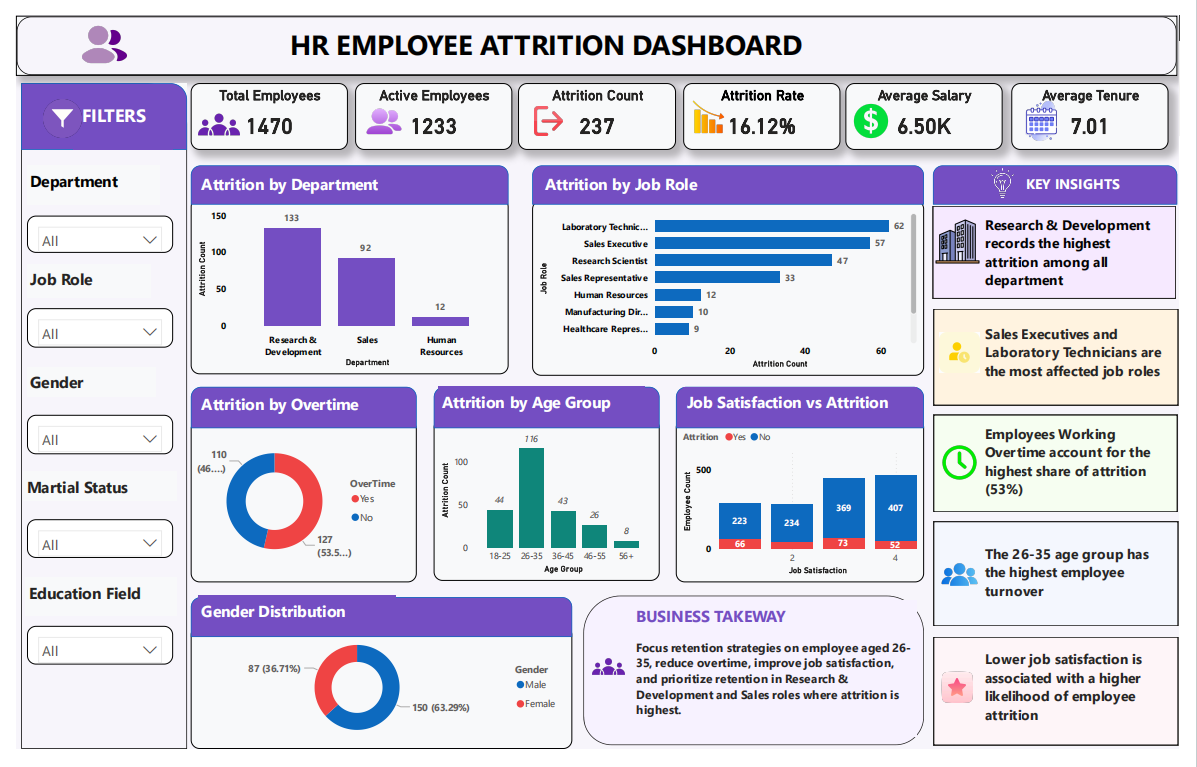

The dashboard page shown, as its layout file describes it:
{"tool":"powerbi","page":{"name":"HR Attrition Dashboard","canvas":[1570,990],"ordinal":0},"visuals":[{"type":"shape","box":[0,0,1567.6,81.3],"z":0},{"type":"textbox","box":[235.9,8,959.8,61.7],"z":1000},{"type":"shape","box":[6.6,91.2,223.9,899.1],"z":2000},{"type":"card","title":"Total Employees","fields":{"Values":["HR Employee Attrition 1.Total Employees"]},"box":[235.6,91.2,212.3,89.6],"z":3000},{"type":"clusteredColumnChart","title":"Attrition by Department","fields":{"Category":["HR Employee Attrition 1.Department"],"Y":["HR Employee Attrition 1.Attrition Count"]},"box":[235.6,245.5,429.6,238.9],"z":4000},{"type":"clusteredBarChart","fields":{"Category":["HR Employee Attrition 1.JobRole"],"Y":["HR Employee Attrition 1.Attrition Count"]},"box":[696.7,248.8,529.2,237.2],"z":5000},{"type":"donutChart","fields":{"Category":["HR Employee Attrition 1.OverTime"],"Y":["HR Employee Attrition 1.Attrition Count"]},"box":[235.6,545.8,305.2,219],"z":6000},{"type":"columnChart","fields":{"Category":["HR Employee Attrition 1.Age Group"],"Y":["HR Employee Attrition 1.Attrition Count"]},"box":[564,544.1,305.2,219],"z":7000},{"type":"donutChart","fields":{"Category":["HR Employee Attrition 1.Gender"],"Y":["HR Employee Attrition 1.Attrition Count"]},"box":[235.6,824.5,515.9,165.9],"z":8000},{"type":"columnChart","fields":{"Category":["HR Employee Attrition 1.JobSatisfaction"],"Y":["CountNonNull(HR Employee Attrition 1.EmployeeNumber)"],"Series":["HR Employee Attrition 1.Attrition"]},"box":[890.8,544.1,335.1,220.6],"z":9000},{"type":"shape","box":[235.6,202.4,429.6,53.1],"z":10000},{"type":"textbox","box":[245.5,205.7,283.7,46.4],"z":11000},{"type":"shape","box":[696.7,202.4,529.2,53.1],"z":12000},{"type":"textbox","box":[710,205.7,267.1,46.4],"z":13000},{"type":"shape","box":[235.6,501,305.2,56.4],"z":14000},{"type":"textbox","box":[245.5,504.3,257.1,49.8],"z":15000},{"type":"shape","box":[564,501,305.2,56.4],"z":16000},{"type":"textbox","box":[570.6,501,278.7,49.8],"z":17000},{"type":"shape","box":[890.8,501,335.1,56.4],"z":18000},{"type":"textbox","box":[900.8,501,315.2,48.1],"z":19000},{"type":"shape","box":[235.6,784.6,515.9,54.7],"z":20000},{"type":"textbox","box":[245.5,783,267.1,49.8],"z":21000},{"type":"shape","box":[6.6,91.2,223.9,89.6],"z":22000},{"type":"textbox","box":[78,112.8,134.4,68],"z":23000},{"type":"slicer","fields":{"Values":["HR Employee Attrition 1.Department"]},"box":[14.9,270.4,197.4,49.8],"z":24000},{"type":"textbox","box":[14.9,202.4,179.2,53.1],"z":25000},{"type":"textbox","box":[14.9,335.1,167.5,44.8],"z":26000},{"type":"slicer","fields":{"Values":["HR Employee Attrition 1.JobRole"]},"box":[14.9,394.8,197.4,53.1],"z":27000},{"type":"textbox","box":[14.9,474.4,174.2,39.8],"z":28000},{"type":"slicer","fields":{"Values":["HR Employee Attrition 1.Gender"]},"box":[14.9,539.1,197.4,53.1],"z":29000},{"type":"textbox","box":[10,615.4,207.4,39.8],"z":30000},{"type":"slicer","fields":{"Values":["HR Employee Attrition 1.MaritalStatus"]},"box":[14.9,680.1,197.4,51.4],"z":31000},{"type":"textbox","box":[13.3,758.1,204,51.4],"z":32000},{"type":"slicer","fields":{"Values":["HR Employee Attrition 1.EducationField"]},"box":[14.9,824.5,197.4,51.4],"z":33000},{"type":"image","box":[1239.2,419.7,68,74.6],"z":34000},{"type":"card","title":"Active Employees","fields":{"Values":["HR Employee Attrition 1.Active Employees"]},"box":[457.8,91.2,212.3,89.6],"z":35000},{"type":"card","title":"Attrition Count","fields":{"Values":["HR Employee Attrition 1.Attrition Count"]},"box":[678.5,91.2,212.3,89.6],"z":36000},{"type":"card","title":"Attrition Rate","fields":{"Values":["HR Employee Attrition 1.Attrition Rate"]},"box":[900.8,91.2,212.3,89.6],"z":37000},{"type":"card","title":"Average Salary","fields":{"Values":["HR Employee Attrition 1.Average Income"]},"box":[1119.7,91.2,212.3,89.6],"z":38000},{"type":"card","title":"Average Tenure","fields":{"Values":["HR Employee Attrition 1.Average Years"]},"box":[1343.7,91.2,212.3,89.6],"z":39000},{"type":"image","box":[696.7,122.8,43.1,38.2],"z":40000},{"type":"image","box":[457.8,114.5,76.3,54.7],"z":41000},{"type":"image","box":[245.5,112.8,56.4,68],"z":42000},{"type":"image","box":[1113.1,119.4,82.9,46.4],"z":43000},{"type":"image","box":[1343.7,116.1,79.6,53.1],"z":44000},{"type":"image","box":[910.7,111.1,48.1,49.8],"z":45000},{"type":"image","box":[910.7,854.3,106.2,131],"z":46000},{"type":"image","box":[66.4,8.3,106.2,61.4],"z":47000},{"type":"image","box":[21.6,112.8,81.3,51.4],"z":48000},{"type":"shape","box":[1237.5,257.1,328.5,124.4],"z":49000},{"type":"shape","box":[1237.5,202.4,330.1,53.1],"z":50000},{"type":"textbox","box":[1358.6,209,184.1,36.5],"z":51000},{"type":"image","box":[1292.2,205.7,79.6,39.8],"z":52000},{"type":"shape","box":[1239.2,839.4,330.1,146],"z":53000},{"type":"shape","box":[1239.2,396.5,330.1,129.4],"z":54000},{"type":"shape","box":[1239.2,539.1,328.5,131],"z":55000},{"type":"shape","box":[1239.2,683.4,330.1,141],"z":56000},{"type":"textbox","box":[1303.9,263.8,252.1,116.1],"z":57000},{"type":"textbox","box":[1303.9,411.4,252.1,99.5],"z":58000},{"type":"textbox","box":[1303.9,545.8,252.1,109.5],"z":59000},{"type":"textbox","box":[1303.9,708.3,252.1,91.2],"z":60000},{"type":"textbox","box":[1303.9,851,252.1,109.5],"z":61000},{"type":"image","box":[1247.5,411.4,53.1,87.9],"z":62000},{"type":"image","box":[1240.8,270.4,59.7,69.7],"z":63000},{"type":"image","box":[1247.5,565.7,53.1,74.6],"z":64000},{"type":"image","box":[1247.5,719.9,53.1,69.7],"z":65000},{"type":"image","box":[1249.1,870.9,43.1,69.7],"z":66000},{"type":"shape","box":[766.4,783,459.5,202.4],"z":67000},{"type":"textbox","box":[832.7,789.6,383.2,184.1],"z":68000},{"type":"image","box":[778,844.4,43.1,68],"z":69000}]}

Visuals, with their boxes in screenshot pixels (x1, y1, x2, y2), scaled from the page's 1570x990 canvas onto the 1197x767 screenshot:
shape: detection(0, 0, 1195, 63)
textbox: detection(180, 6, 912, 54)
shape: detection(5, 71, 176, 766)
"Total Employees" card: detection(180, 71, 341, 140)
"Attrition by Department" clusteredColumnChart: detection(180, 190, 507, 375)
clusteredBarChart - HR Employee Attrition 1.JobRole x HR Employee Attrition 1.Attrition Count: detection(531, 193, 935, 377)
donutChart - HR Employee Attrition 1.OverTime x HR Employee Attrition 1.Attrition Count: detection(180, 423, 412, 593)
columnChart - HR Employee Attrition 1.Age Group x HR Employee Attrition 1.Attrition Count: detection(430, 422, 663, 591)
donutChart - HR Employee Attrition 1.Gender x HR Employee Attrition 1.Attrition Count: detection(180, 639, 573, 766)
columnChart - HR Employee Attrition 1.JobSatisfaction x CountNonNull(HR Employee Attrition 1.EmployeeNumber): detection(679, 422, 935, 592)
shape: detection(180, 157, 507, 198)
textbox: detection(187, 159, 403, 195)
shape: detection(531, 157, 935, 198)
textbox: detection(541, 159, 745, 195)
shape: detection(180, 388, 412, 432)
textbox: detection(187, 391, 383, 429)
shape: detection(430, 388, 663, 432)
textbox: detection(435, 388, 648, 427)
shape: detection(679, 388, 935, 432)
textbox: detection(687, 388, 927, 425)
shape: detection(180, 608, 573, 650)
textbox: detection(187, 607, 391, 645)
shape: detection(5, 71, 176, 140)
textbox: detection(59, 87, 162, 140)
slicer - HR Employee Attrition 1.Department: detection(11, 209, 162, 248)
textbox: detection(11, 157, 148, 198)
textbox: detection(11, 260, 139, 294)
slicer - HR Employee Attrition 1.JobRole: detection(11, 306, 162, 347)
textbox: detection(11, 368, 144, 398)
slicer - HR Employee Attrition 1.Gender: detection(11, 418, 162, 459)
textbox: detection(8, 477, 166, 508)
slicer - HR Employee Attrition 1.MaritalStatus: detection(11, 527, 162, 567)
textbox: detection(10, 587, 166, 627)
slicer - HR Employee Attrition 1.EducationField: detection(11, 639, 162, 679)
image: detection(945, 325, 997, 383)
"Active Employees" card: detection(349, 71, 511, 140)
"Attrition Count" card: detection(517, 71, 679, 140)
"Attrition Rate" card: detection(687, 71, 849, 140)
"Average Salary" card: detection(854, 71, 1016, 140)
"Average Tenure" card: detection(1024, 71, 1186, 140)
image: detection(531, 95, 564, 125)
image: detection(349, 89, 407, 131)
image: detection(187, 87, 230, 140)
image: detection(849, 93, 912, 128)
image: detection(1024, 90, 1085, 131)
image: detection(694, 86, 731, 125)
image: detection(694, 662, 775, 763)
image: detection(51, 6, 132, 54)
image: detection(16, 87, 78, 127)
shape: detection(943, 199, 1194, 296)
shape: detection(943, 157, 1195, 198)
textbox: detection(1036, 162, 1176, 190)
image: detection(985, 159, 1046, 190)
shape: detection(945, 650, 1196, 763)
shape: detection(945, 307, 1196, 407)
shape: detection(945, 418, 1195, 519)
shape: detection(945, 529, 1196, 639)
textbox: detection(994, 204, 1186, 294)
textbox: detection(994, 319, 1186, 396)
textbox: detection(994, 423, 1186, 508)
textbox: detection(994, 549, 1186, 619)
textbox: detection(994, 659, 1186, 744)
image: detection(951, 319, 992, 387)
image: detection(946, 209, 992, 263)
image: detection(951, 438, 992, 496)
image: detection(951, 558, 992, 612)
image: detection(952, 675, 985, 729)
shape: detection(584, 607, 935, 763)
textbox: detection(635, 612, 927, 754)
image: detection(593, 654, 626, 707)
